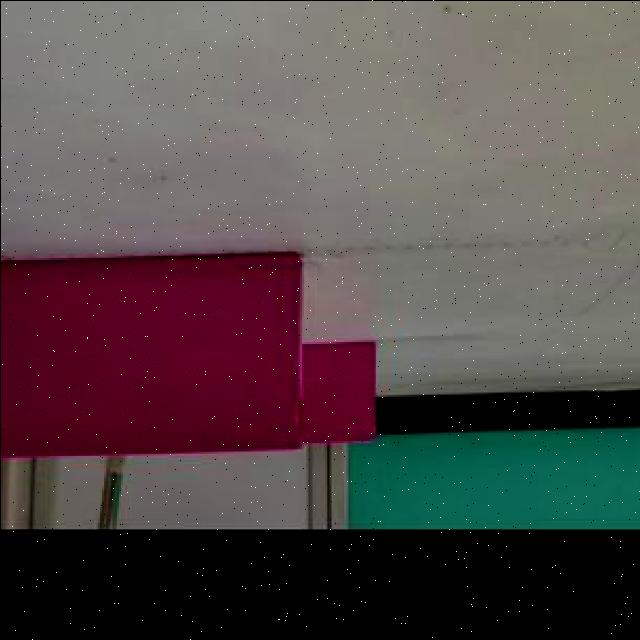xparking: (1, 256, 298, 452), (308, 341, 372, 442)
